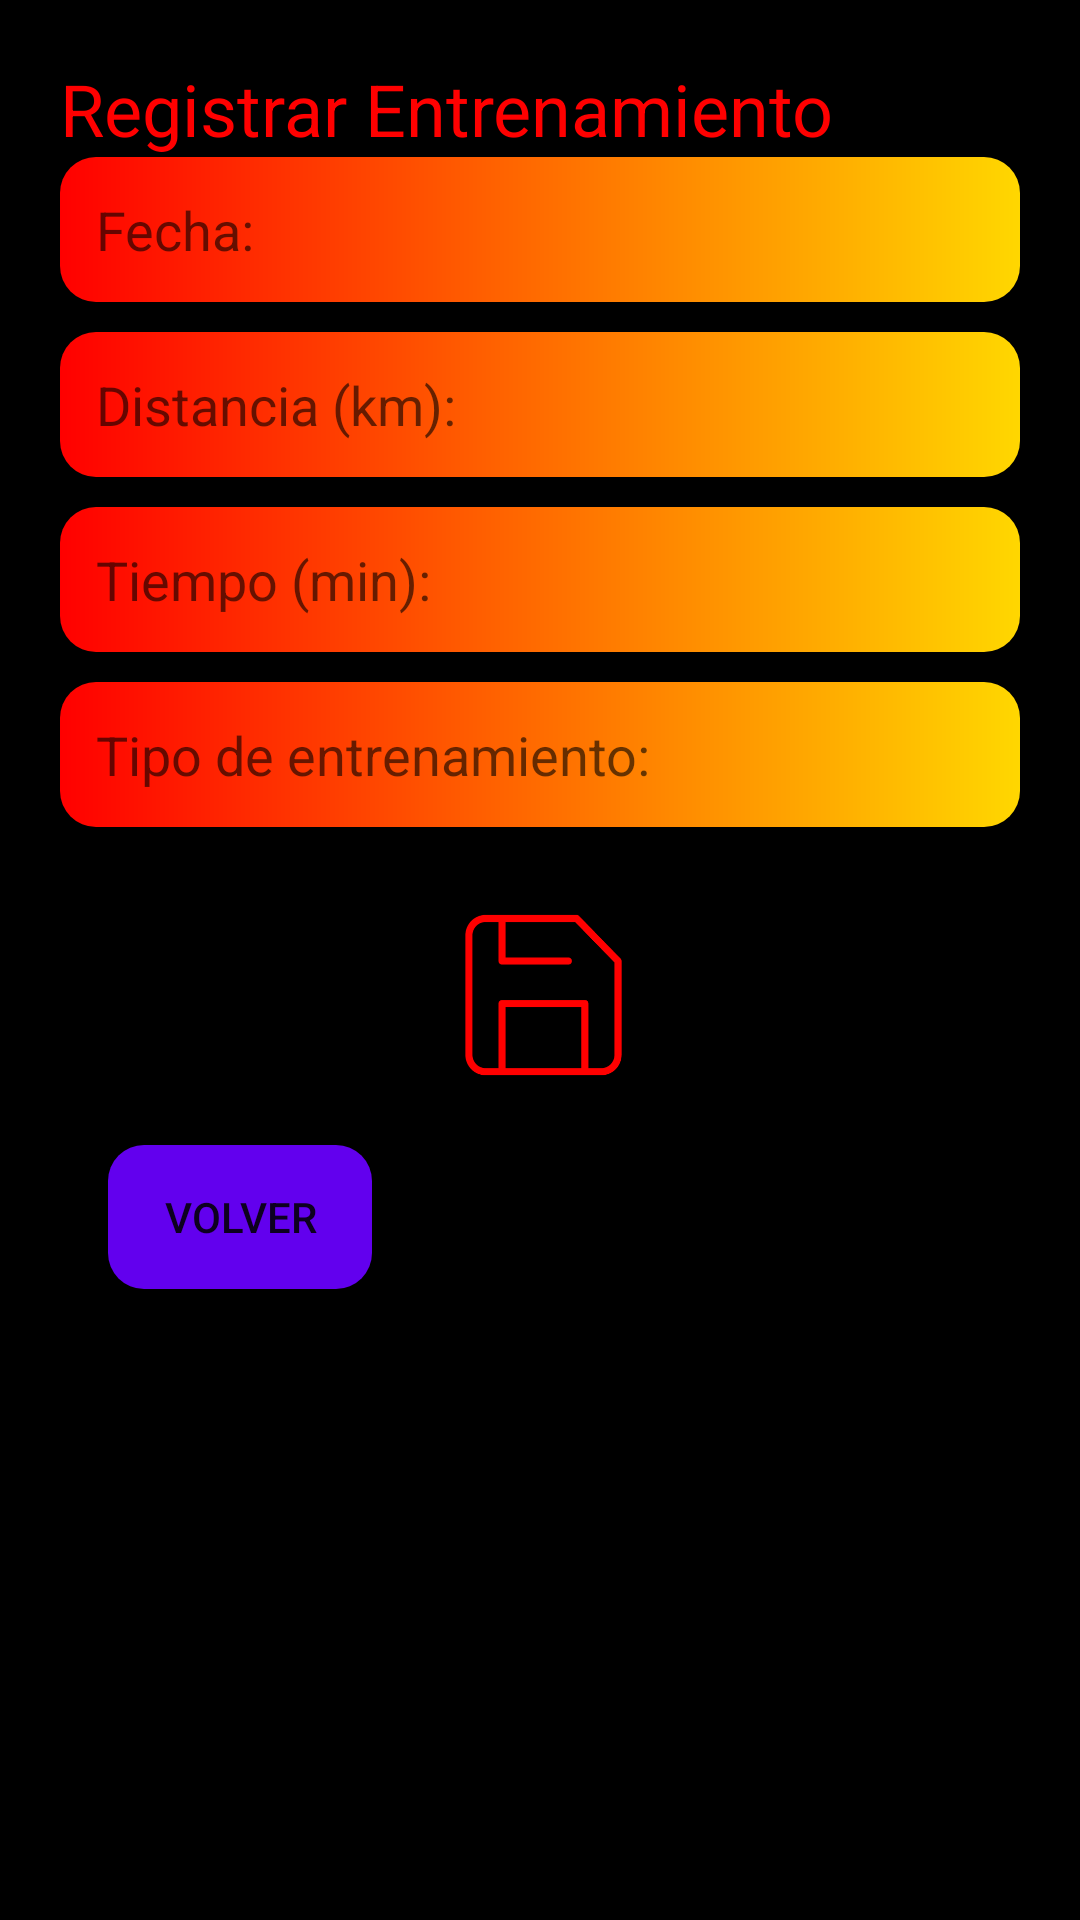

Icon click points for this 1080x1920 phone screenshot, format (x,y):
Guardar Meta: (543,995)
